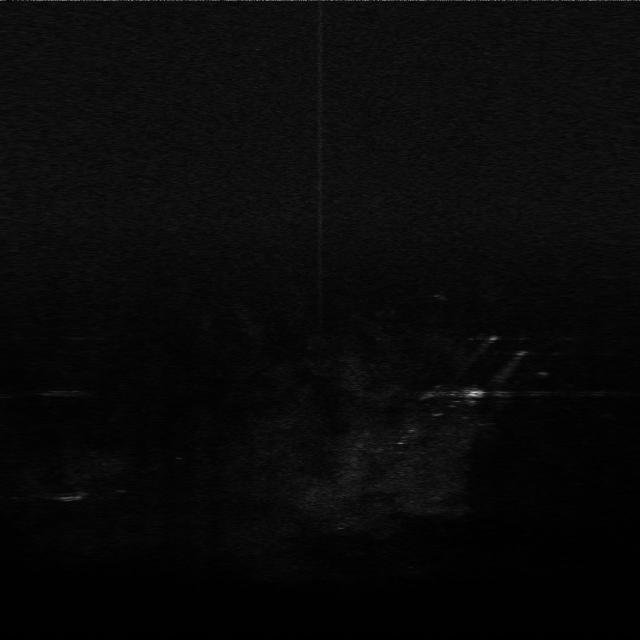rov: (463, 385, 493, 402)
